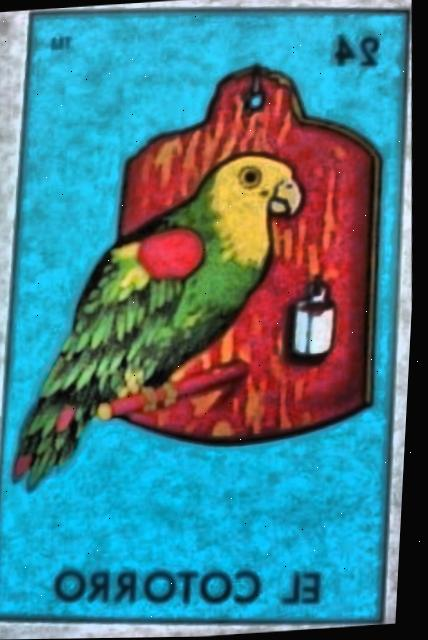El Cotorro: (0, 12, 405, 620)
